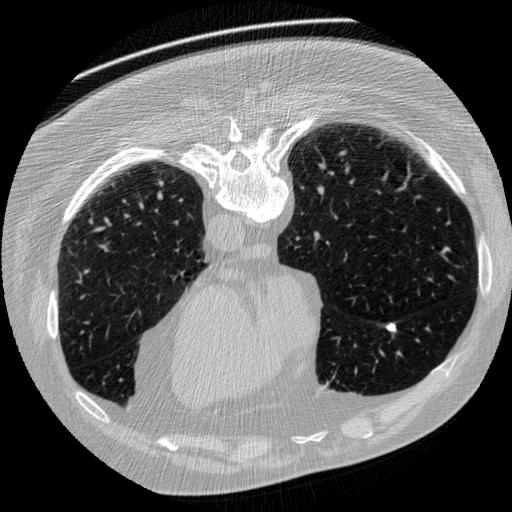nodule: (385, 320, 402, 337)
